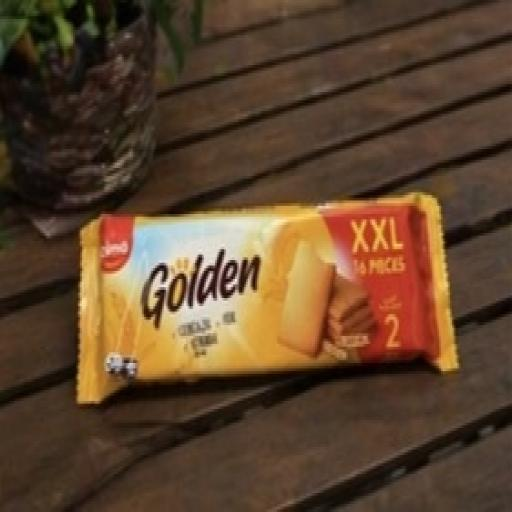golden: (46, 163, 491, 452)
